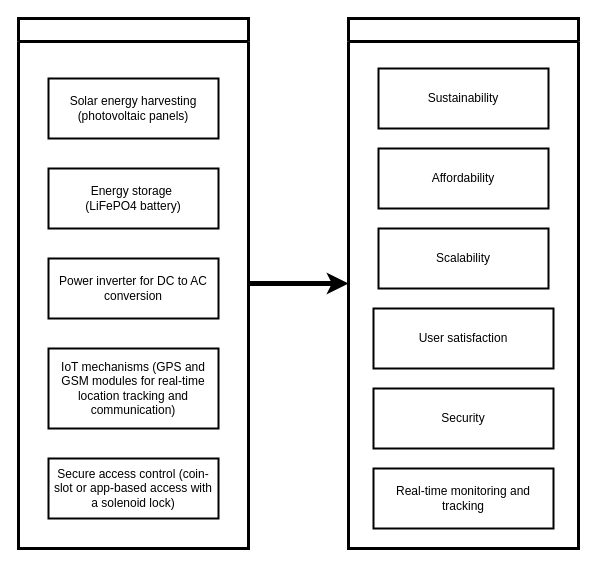
This 597x567 diagram has some shape labels left out. The box of each missing label's shape, as (x1, y1, x2, y2) in pixels:
Dependent Variable: (346, 16, 580, 550)
Independent Variable: (16, 16, 250, 550)
